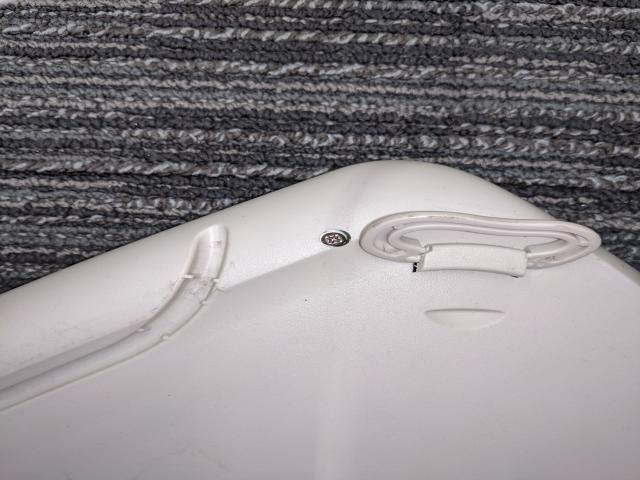CRS: (319, 230, 348, 245)
